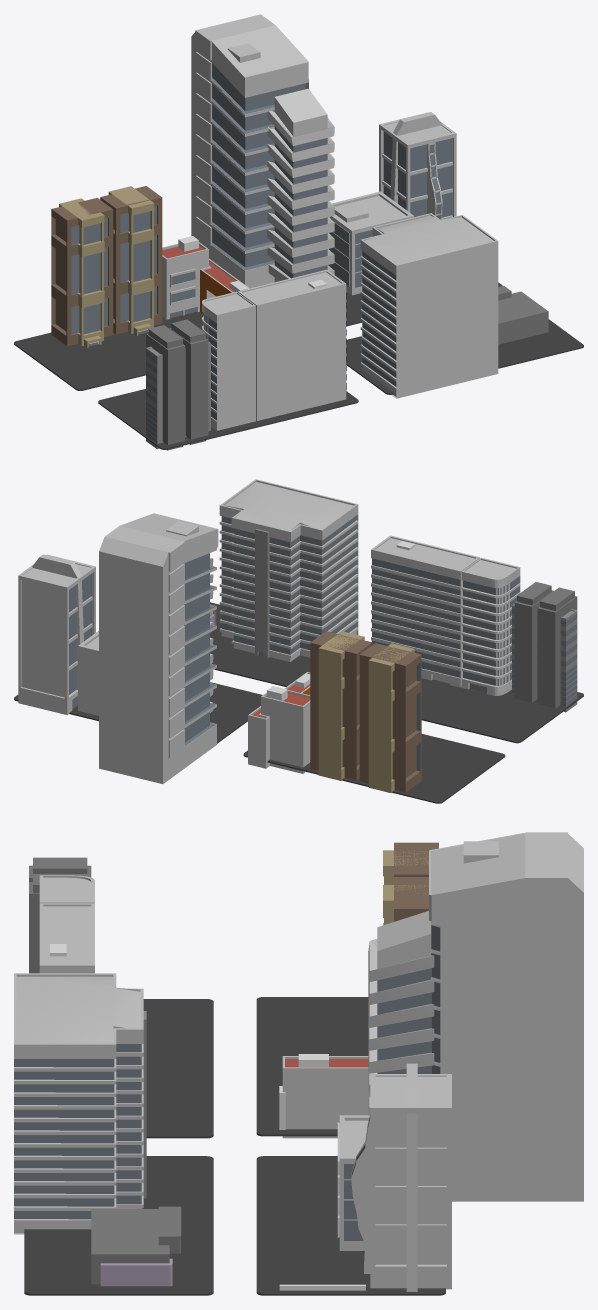
File: cblock.FBX
3 renders of one model, top to bottom at view 1: azimuth 30°, elevation 25°; view 2: azimuth 150°, elevation 25°; view 3: azimuth 270°, elevation 25°, orthographic. The views are drawn at different scales.
Visible parts, largest first — view 1: Box003, Box017, Box019, Box001, Box020, Rectangle006, Box029, Box002, Box006, Box010, Box033, Box008 (+6 smaller); view 2: Box003, Box017, Box019, Box001, Box020, Box029, Rectangle004, Box006, Rectangle006, Box008, Box010, Box033 (+7 smaller); view 3: Box003, Box017, Box001, Rectangle002, Rectangle003, Rectangle004, Rectangle006, Box006, Box014, Box019, Box002, Box016 (+7 smaller).
Part boxes in pixels (x1,y1,x2,y2): Box003: [191, 14, 334, 288]; Box017: [360, 213, 498, 398]; Box019: [237, 269, 346, 420]; Box001: [379, 112, 456, 219]; Box020: [202, 291, 255, 430]; Rectangle006: [14, 311, 203, 390]; Box029: [51, 198, 113, 346]; Box002: [328, 191, 413, 295]; Box006: [162, 242, 249, 319]; Box010: [108, 186, 154, 335]; Box033: [59, 198, 104, 347]; Box008: [100, 186, 162, 334]; Box003: [99, 513, 218, 783]; Box017: [219, 479, 358, 661]; Box019: [371, 535, 479, 687]; Box001: [18, 554, 95, 714]; Box020: [461, 557, 520, 695]; Box029: [359, 643, 421, 792]; Rectangle004: [421, 678, 583, 743]; Box006: [248, 672, 310, 773]; Rectangle006: [243, 734, 505, 803]; Box008: [310, 631, 372, 780]; Box010: [318, 631, 364, 780]; Box033: [368, 643, 414, 792]; Box003: [368, 832, 583, 1201]; Box017: [14, 973, 143, 1234]; Box001: [351, 1063, 451, 1291]; Rectangle002: [256, 1156, 445, 1295]; Rectangle003: [24, 1156, 213, 1295]; Rectangle004: [143, 999, 213, 1138]; Rectangle006: [256, 997, 368, 1136]; Box006: [282, 1056, 368, 1138]; Box014: [91, 1206, 181, 1284]; Box019: [39, 903, 94, 973]; Box002: [337, 1115, 369, 1250]; Box016: [100, 1258, 172, 1286].
Size of what is drawn, in the model's own units: 356 by 185 by 289.
